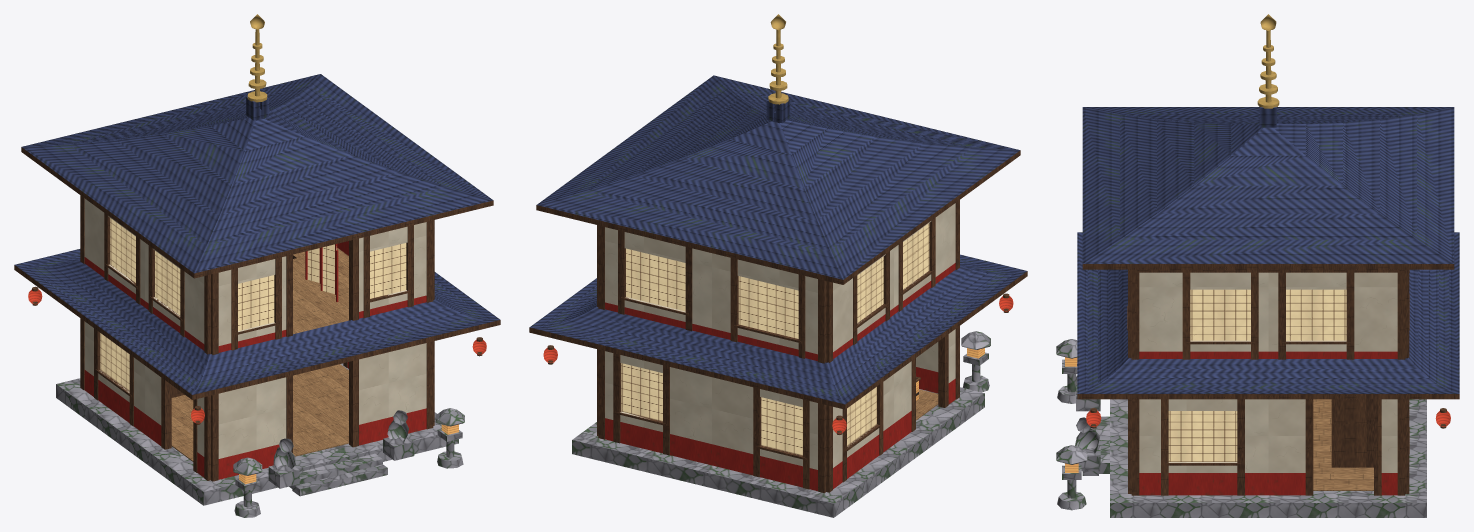
File: house_pagoda.gltf
3 views of the same model, side by side, from view 1: azimuth 30°, elevation 25°; view 2: azimuth 150°, elevation 25°; view 3: azimuth 270°, elevation 25° (orthographic). The views are drawn at different scales.
Visible parts, largest first — view 1: Building; view 2: Building; view 3: Building.
Boxes of the visible parts, x1,y1,x2,y2 form: Building: (14, 14, 500, 517); Building: (529, 14, 1027, 517); Building: (1056, 14, 1459, 517).
Bounding box in the file's own units: 14 × 17.72 × 14.77.
Materials: 11 (11 with a texture image).
